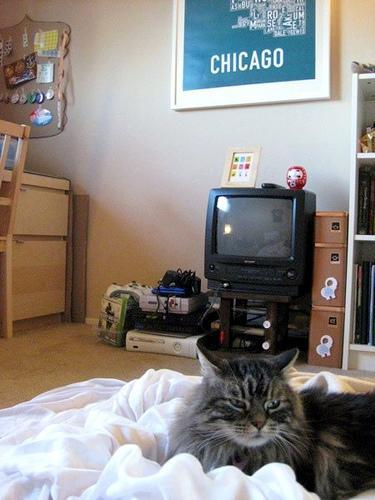tv: (207, 180, 321, 290)
